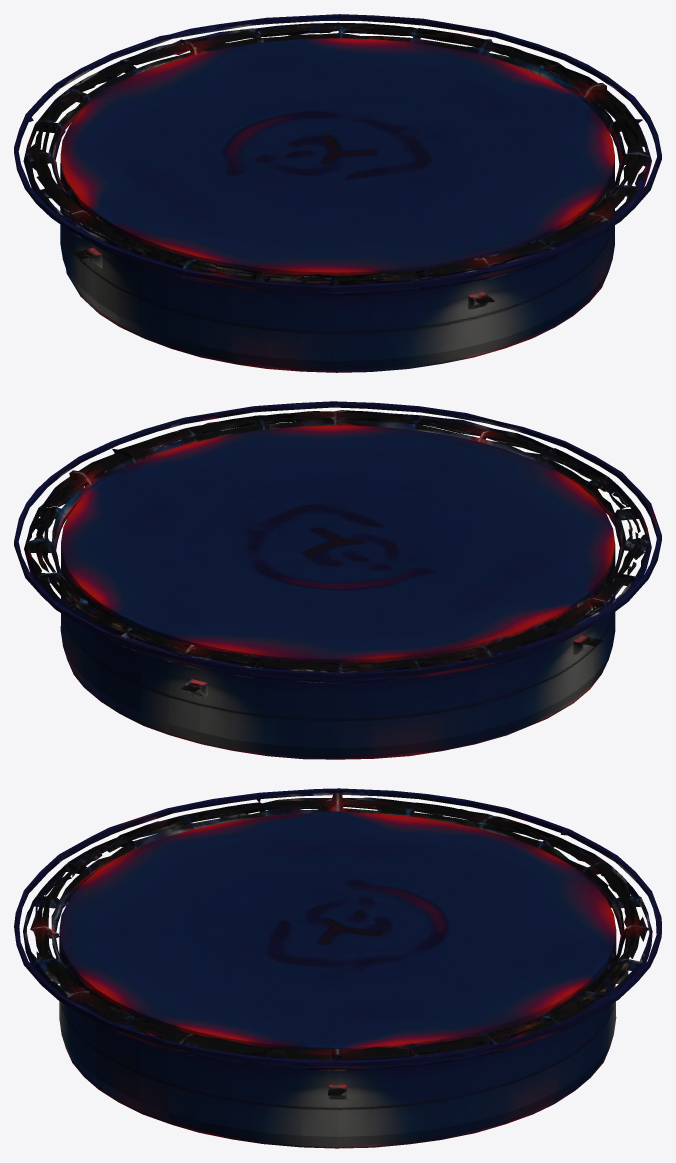
Rendered from Azotea.fbx.
The picture shows the model from 3 angles, top to bottom: view 1: azimuth 30°, elevation 25°; view 2: azimuth 150°, elevation 25°; view 3: azimuth 270°, elevation 25°; orthographic projection.
Parts seen in each view (by area): view 1: tripo_node_a88d721f; view 2: tripo_node_a88d721f; view 3: tripo_node_a88d721f.
Part boxes in pixels (bbox=[...]): tripo_node_a88d721f: bbox=[14, 14, 661, 372]; tripo_node_a88d721f: bbox=[14, 401, 661, 759]; tripo_node_a88d721f: bbox=[14, 788, 661, 1148].
Bounding box in the file's own units: 1 × 0.1863 × 0.9996.
Materials: 1 (1 with a texture image).
